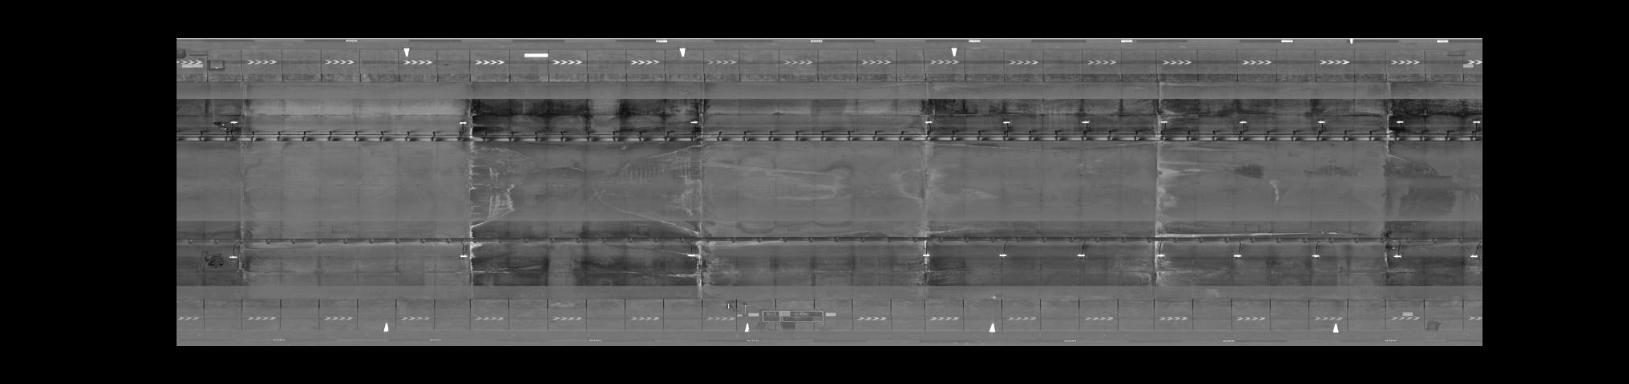light: (1000, 115, 1015, 127), (679, 251, 699, 259), (995, 250, 1011, 260), (917, 251, 936, 259), (1310, 117, 1328, 126), (453, 252, 471, 260), (1306, 251, 1321, 260), (1387, 252, 1404, 260), (1155, 118, 1172, 127), (1391, 118, 1407, 127), (1152, 252, 1168, 260), (1466, 251, 1479, 260), (226, 117, 241, 126), (687, 117, 699, 127), (1233, 118, 1249, 126), (1229, 252, 1245, 259), (1074, 251, 1088, 259), (225, 253, 239, 262), (1077, 118, 1092, 126), (920, 118, 935, 126), (456, 119, 470, 127), (1470, 117, 1481, 126)
